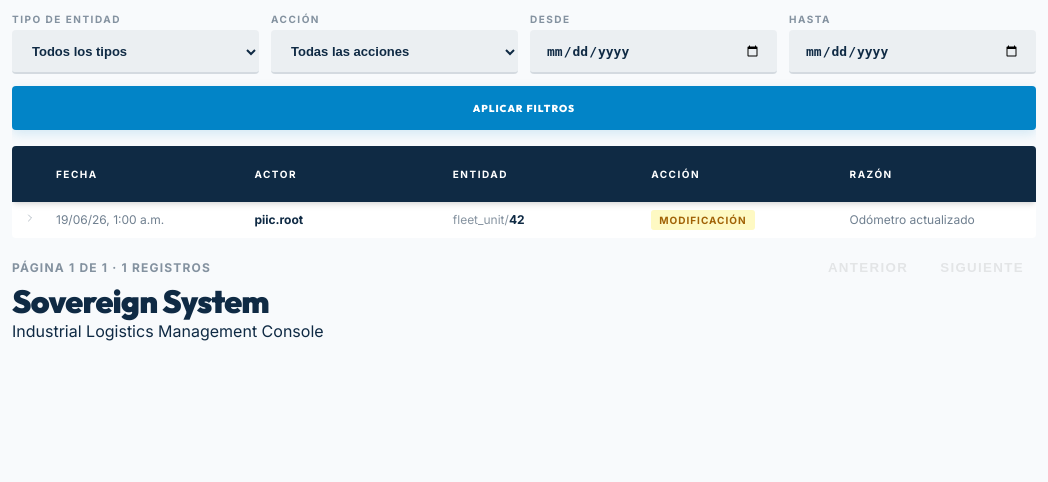
AuditLogView › R4-C — filtros, paginación, toggle de diff y estado vacío de snapshot › un segundo click en la fila expandida la colapsa de nuevo (toggle off)
Click the row with test id "audit-row-audit-uuid-001": (524,220) top-left (12, 202), bottom-right (1036, 238)
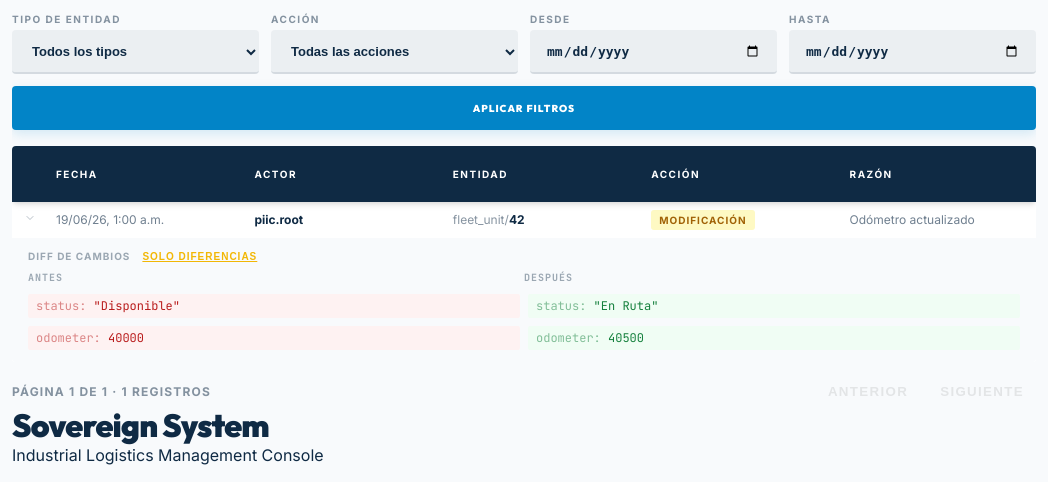
Result: the row with test id "audit-diff-audit-uuid-001" is shown at top-left (12, 238), bottom-right (1036, 362)
Click the row with test id "audit-row-audit-uuid-001": (524,220) top-left (12, 202), bottom-right (1036, 238)
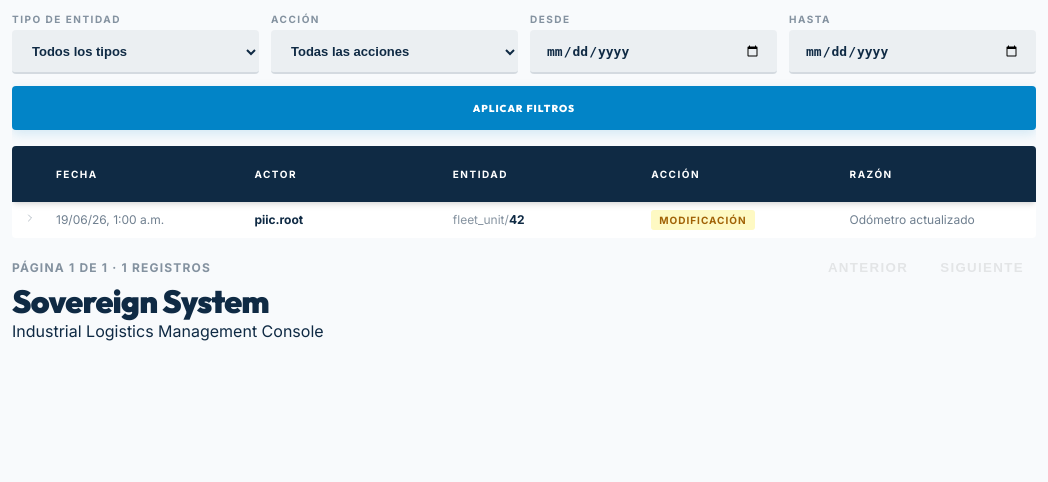
Result: the row with test id "audit-diff-audit-uuid-001" is gone
